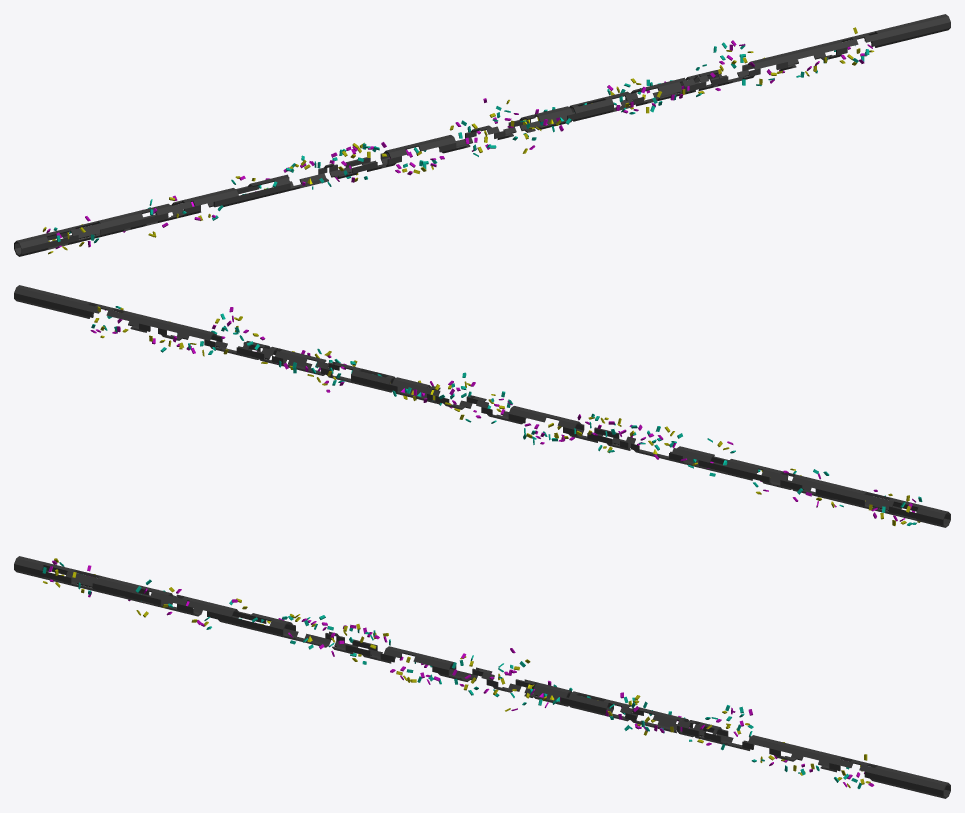
Rendered from Light level.fbx.
The picture shows the model from 3 angles, top to bottom: view 1: azimuth 30°, elevation 25°; view 2: azimuth 150°, elevation 25°; view 3: azimuth 330°, elevation 25°; orthographic projection.
Parts seen in each view (by area): view 1: Light_path1; view 2: Light_path1; view 3: Light_path1.
Part boxes in pixels (box(x1,y1,x2,y2)): Light_path1: box(14, 14, 950, 256); Light_path1: box(14, 285, 950, 527); Light_path1: box(14, 556, 950, 798).
Bounding box in the file's own units: 1102 × 61.91 × 64.89.
